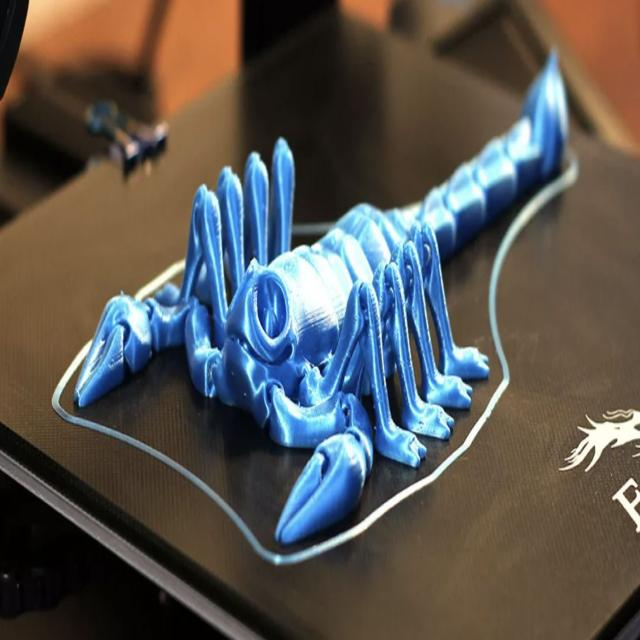Without deffect: (37, 3, 581, 567)
